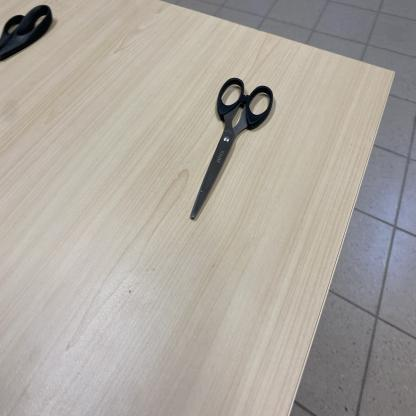scissors: (186, 76, 275, 222), (0, 4, 53, 61)
